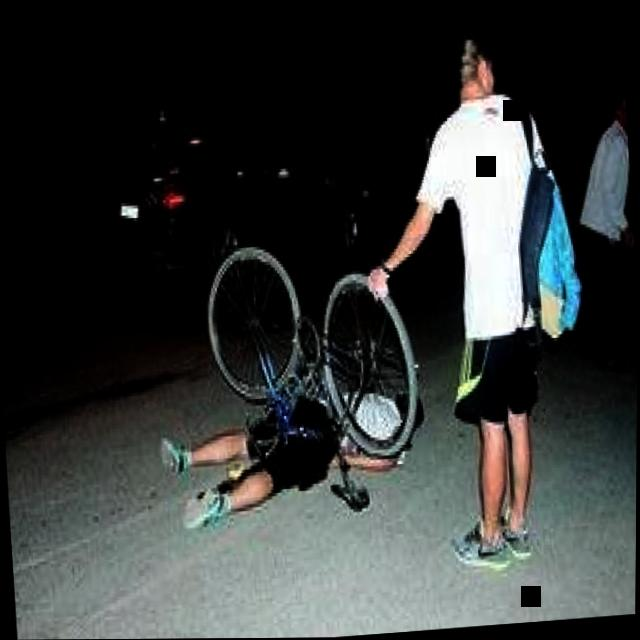Fall-Detected: (151, 354, 406, 549)
